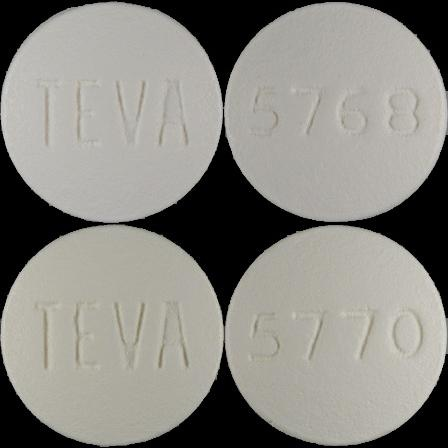0615-7671: (0, 0, 224, 224)
